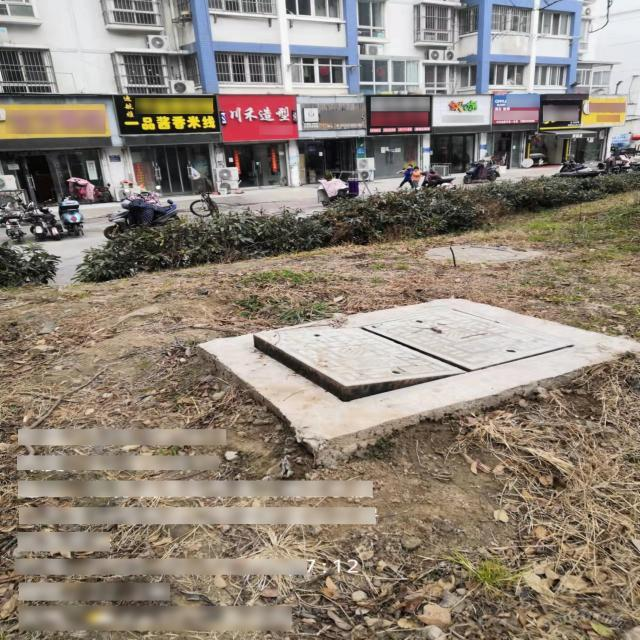Faulty: (254, 302, 576, 402)
